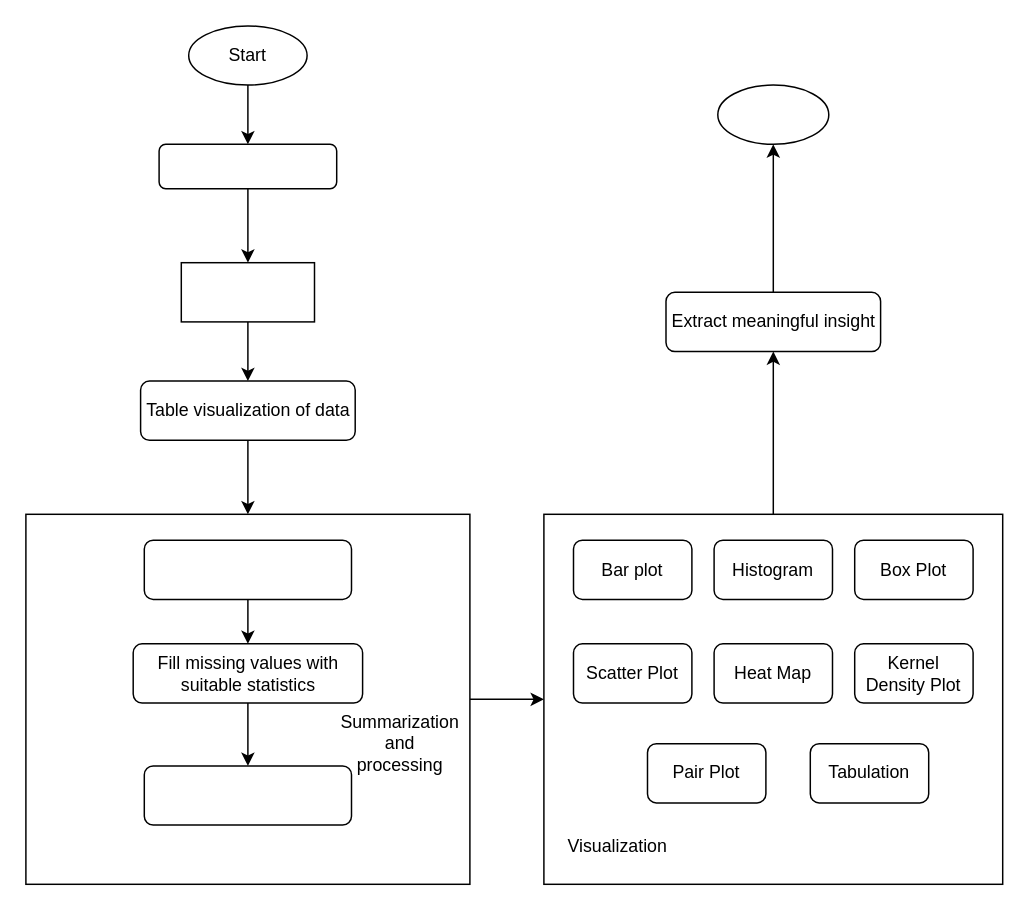
Image size: 1029x910. Some labels were removed from this diagram. The shapes that lost their labels are listed below. From the top down, each one's centre as x and y in pixels, then its label:
At [772,114]: "end".
At [247,166]: "Create Spark Session".
At [247,291]: "Load data".
At [247,569]: "Info and description of data".
At [247,794]: "Cross tabulation and correlation calculation".
